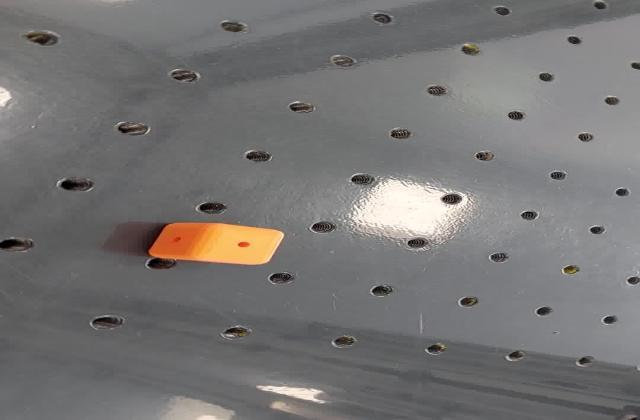cube: (142, 221, 292, 266)
